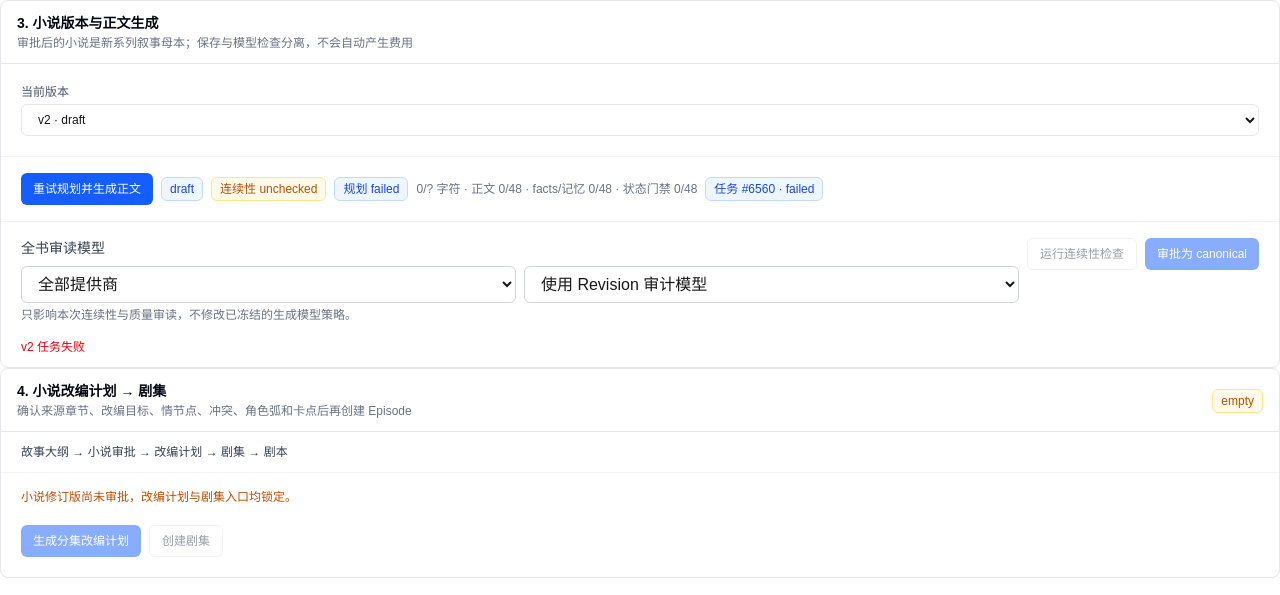
StoryNovelWorkflow revision task scope › drops a failed task when selecting another revision and starts that revision
Expected: the text "任务 #6560 · failed" is shown, x1=705 y1=177 x2=823 y2=201
Select "v3 · draft" in the dropdown named "当前小说版本": (640, 120) x1=21 y1=104 x2=1259 y2=136
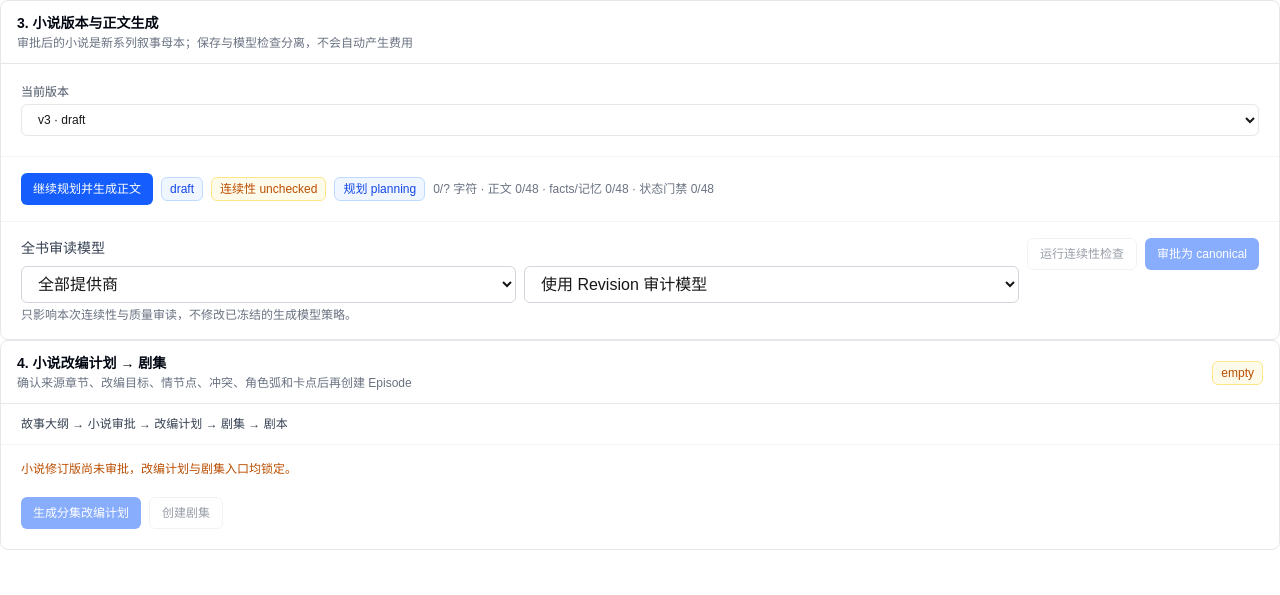
Now the text "任务 #6560 · failed" is gone
Now the message "v2 任务失败" is gone
Click the button "继续规划并生成正文": click(87, 189) x1=21 y1=173 x2=153 y2=205
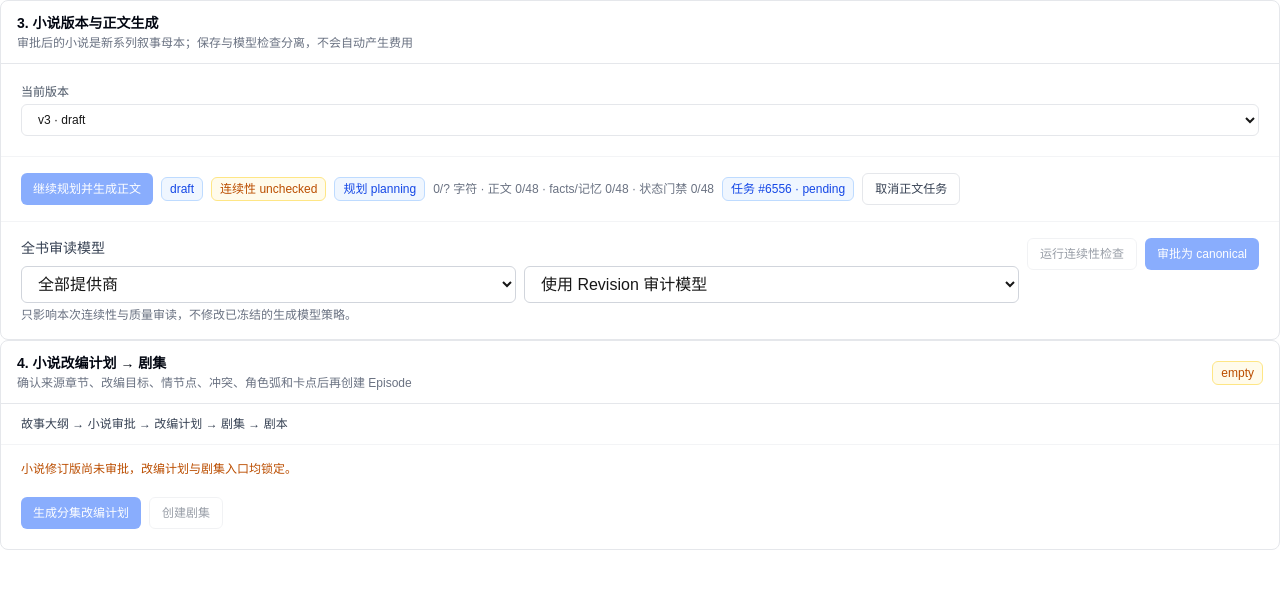
Now the text "任务 #6556 · pending" is shown, box x1=722 y1=177 x2=854 y2=201
